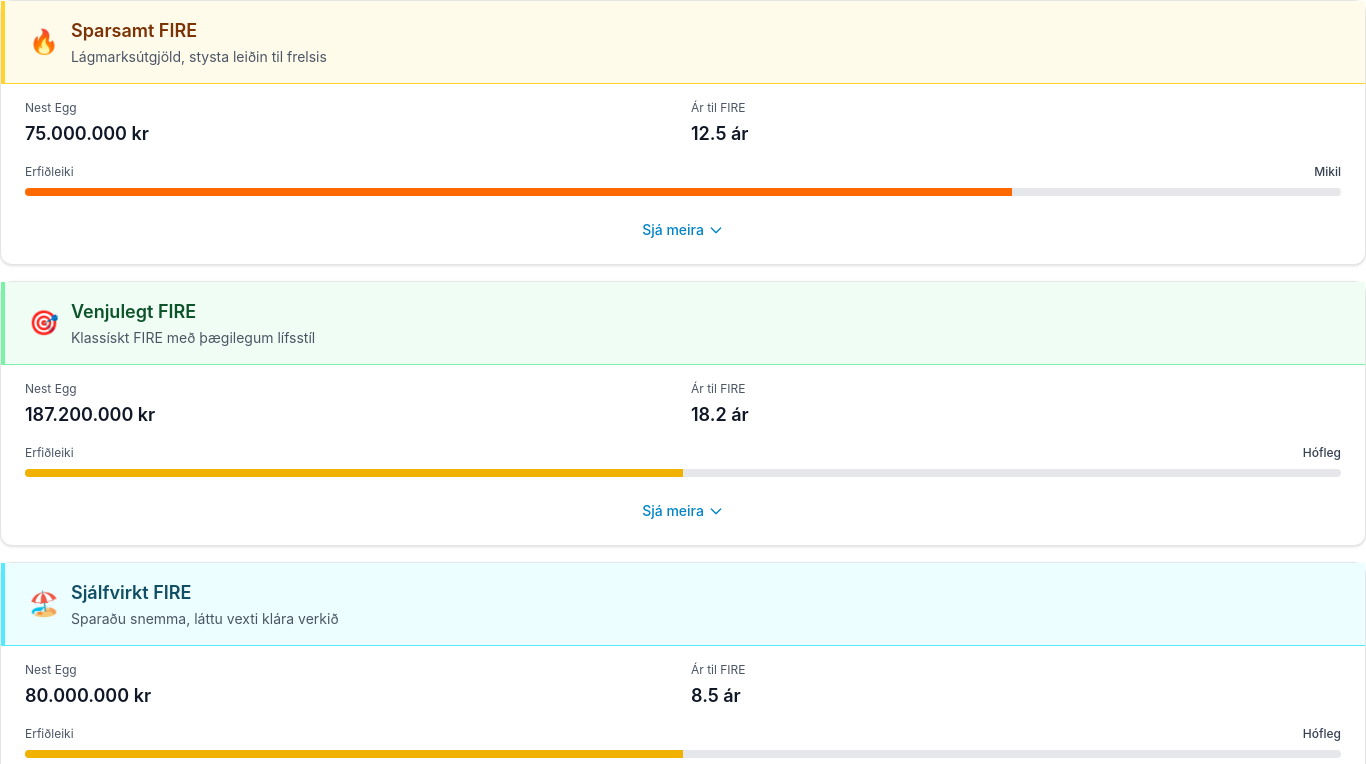
it: ComparisonCards Component › Expand/Collapse Functionality › collapses card when clicking "Sjá minna"
Click the button "Sjá meira" below "Mikil" at point(683, 230), box x1=25 y1=212 x2=1341 y2=248
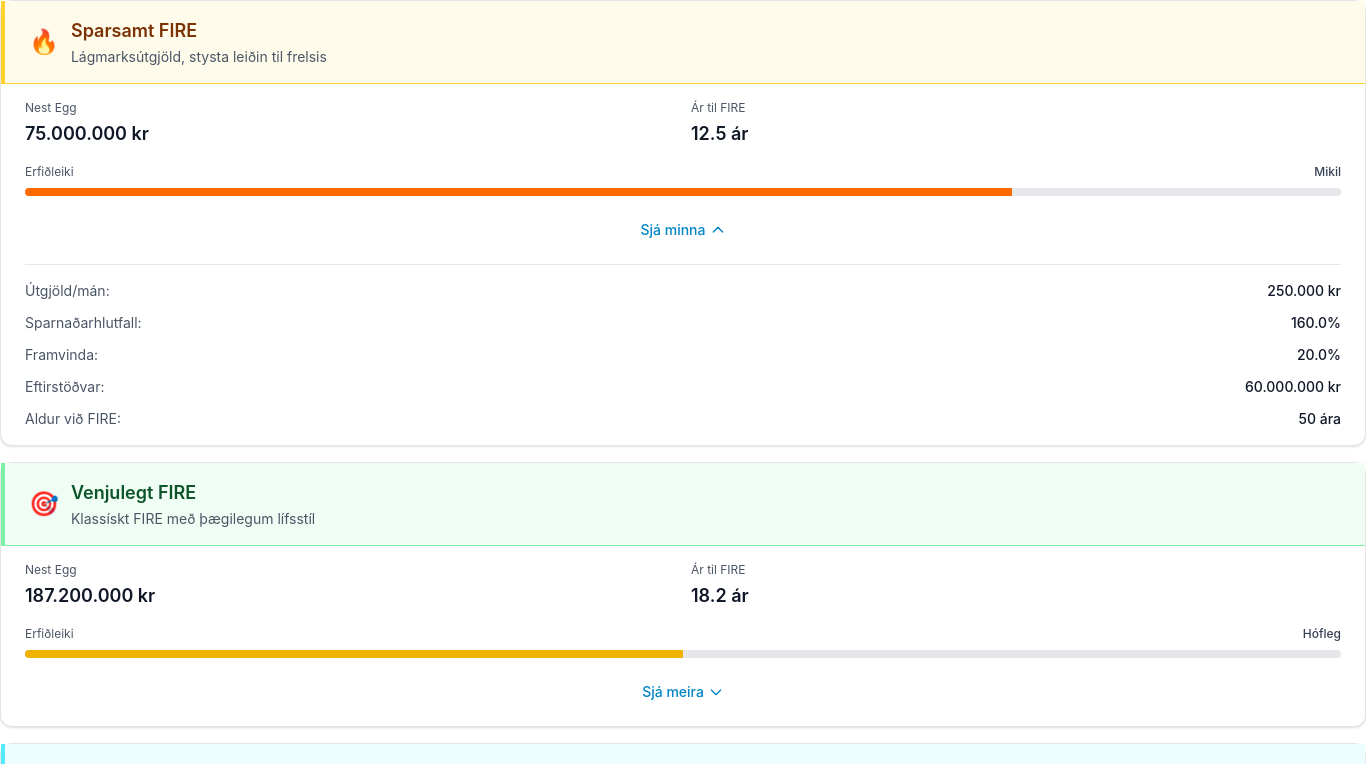
# Now collapse
Click the button "Sjá minna" at point(683, 230), box x1=25 y1=212 x2=1341 y2=248
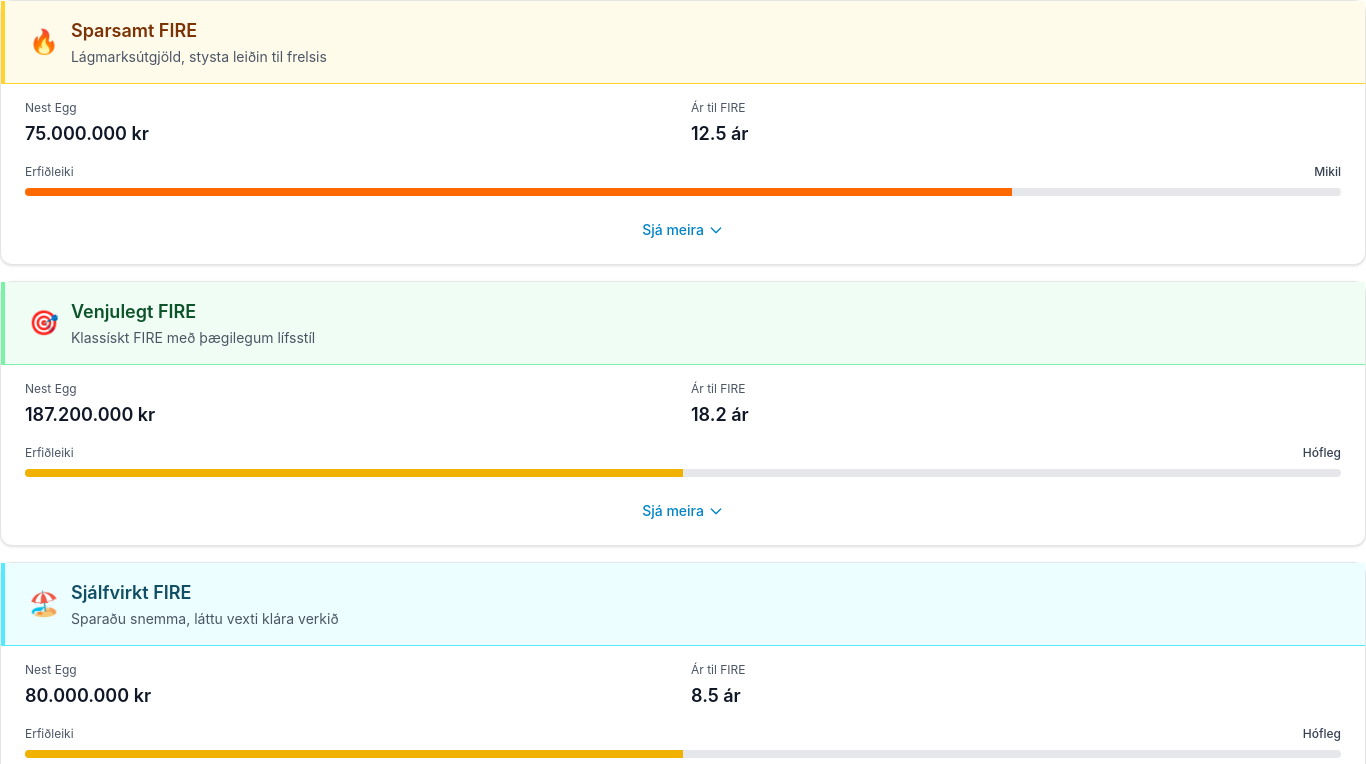
Now the text "Útgjöld/mán:" is gone
